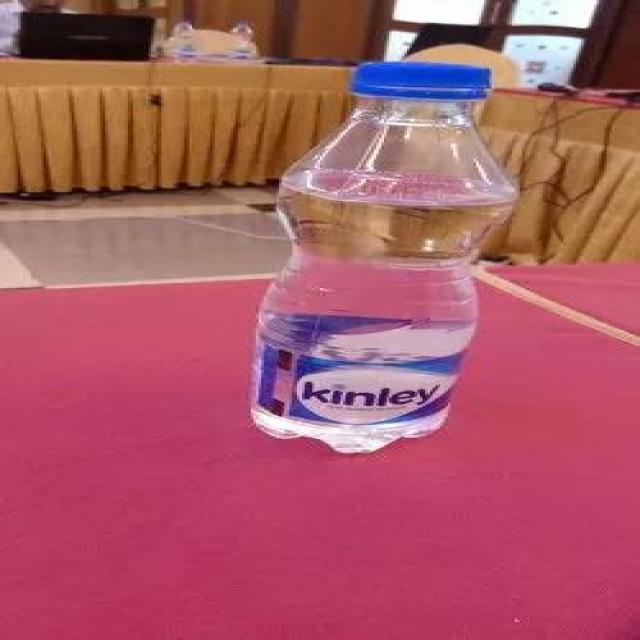bottle: (256, 34, 504, 480)
